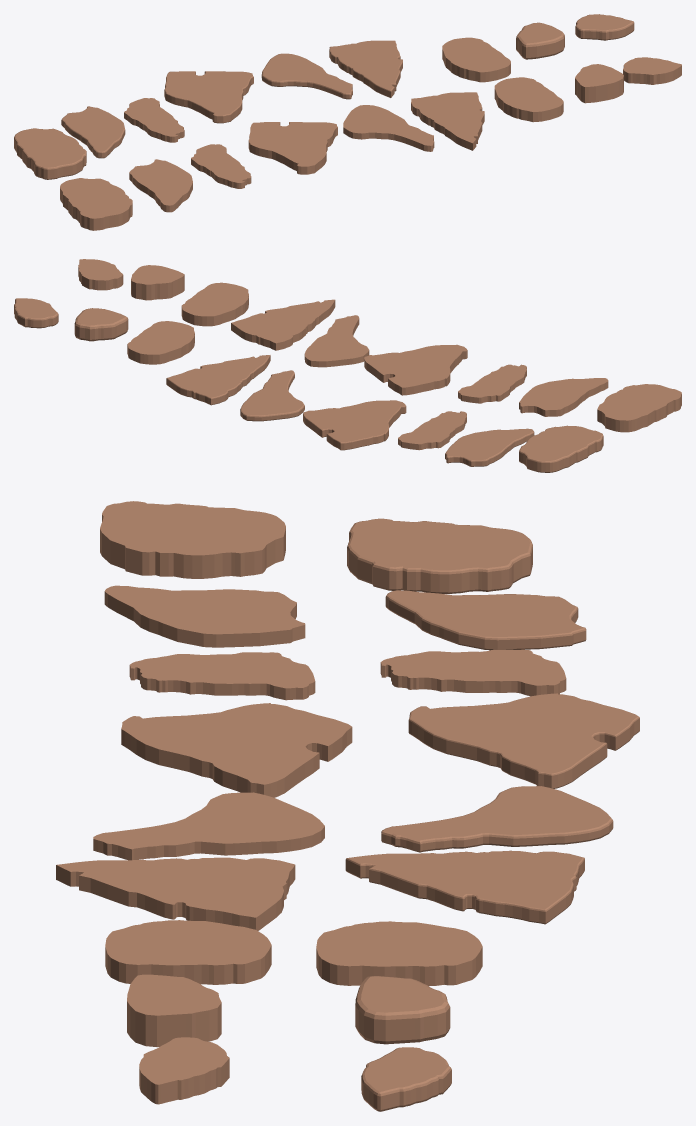
Rendered from steak-2.glb.
3 renders of one model, top to bottom at view 1: azimuth 30°, elevation 25°; view 2: azimuth 150°, elevation 25°; view 3: azimuth 270°, elevation 25°, orthographic. The views are drawn at different scales.
Visible parts, largest first — view 1: geometry_0; view 2: geometry_0; view 3: geometry_0.
Boxes of the visible parts, bbox=[...] form: geometry_0: bbox=[14, 14, 681, 230]; geometry_0: bbox=[14, 259, 681, 472]; geometry_0: bbox=[56, 501, 639, 1111].
Size of the model in its own units: 1.6 by 0.04 by 0.6724.
